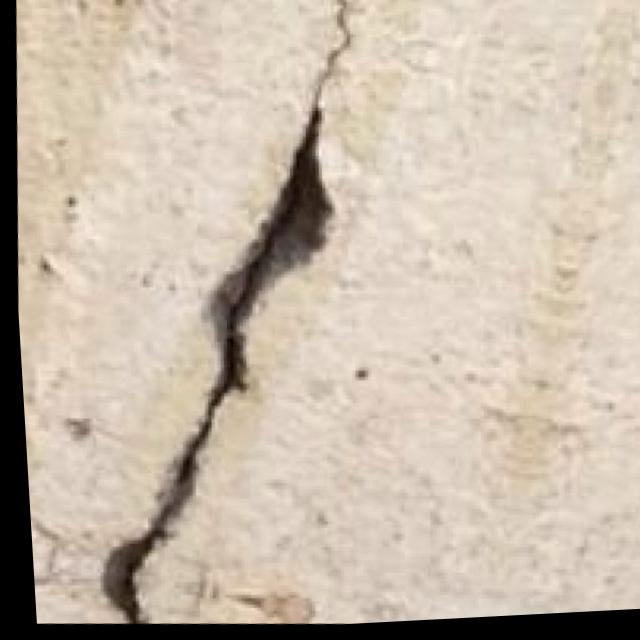Crack: (69, 0, 420, 637)
